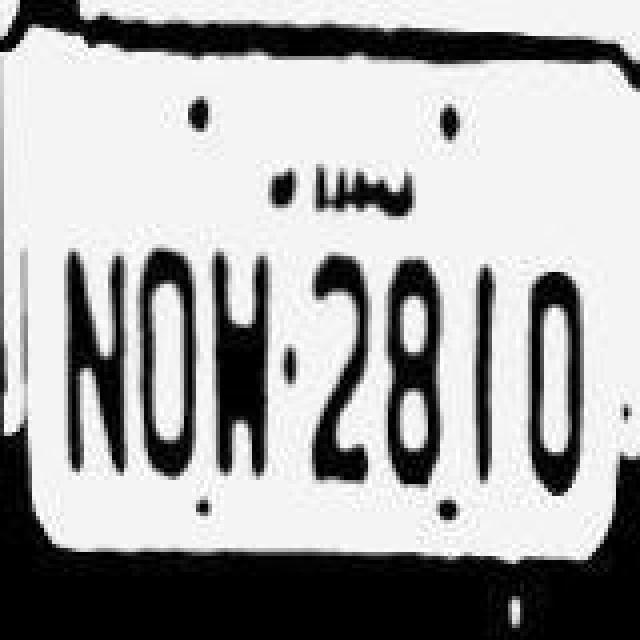1: (460, 248, 504, 500)
2: (298, 252, 370, 520)
8: (374, 258, 446, 506)
N: (52, 228, 136, 492)
O: (134, 240, 206, 496), (518, 256, 590, 504)
W: (208, 236, 276, 488)
